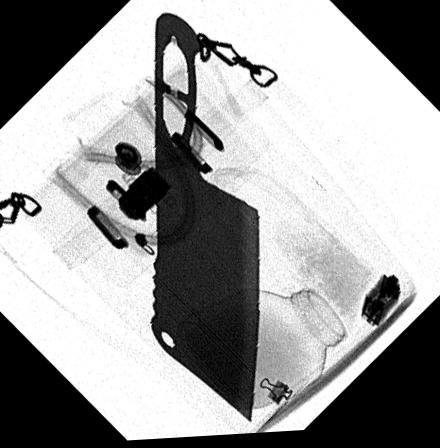Knife: (148, 13, 260, 427)
